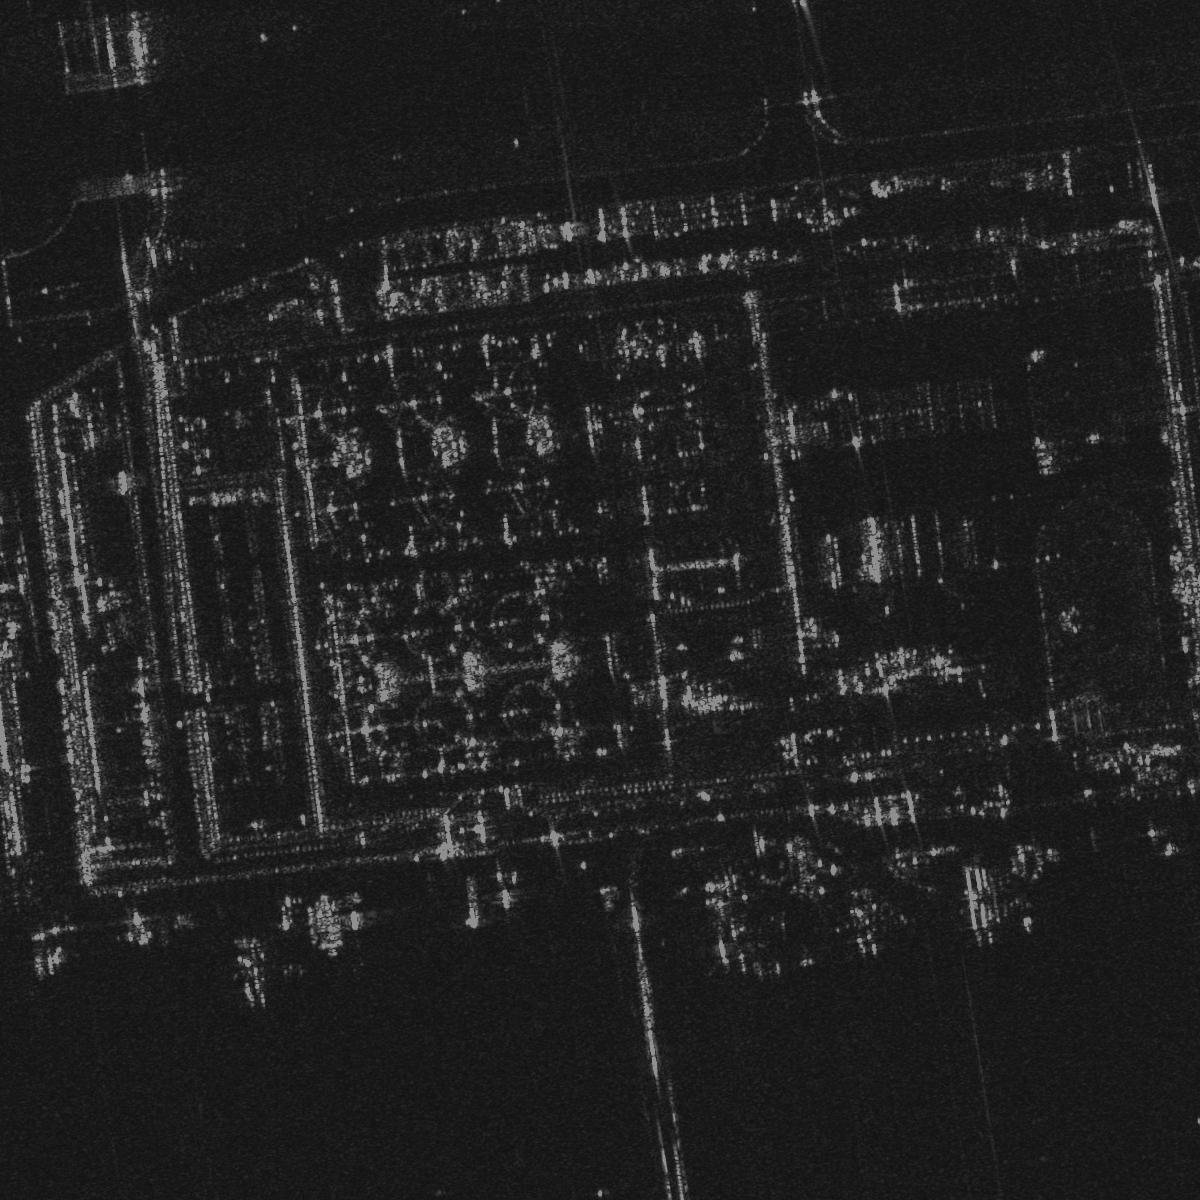Boeing787: (216, 935, 295, 1010), (831, 882, 905, 958), (759, 833, 836, 904)
